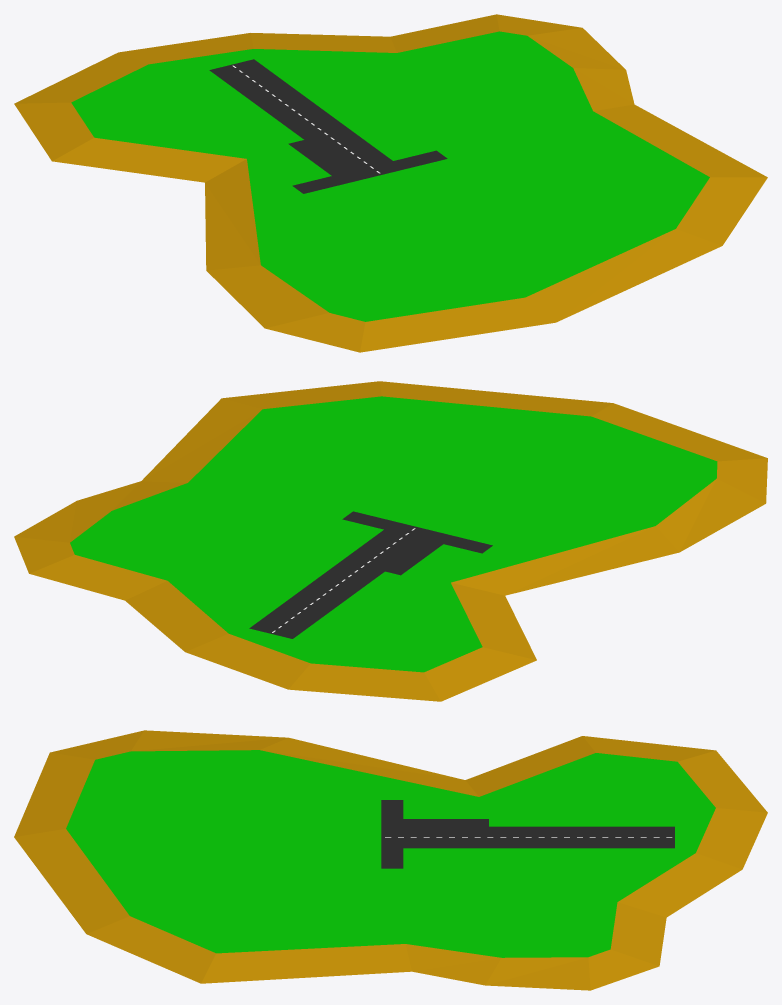
File: island.obj
3 renders of one model, top to bottom at view 1: azimuth 30°, elevation 25°; view 2: azimuth 150°, elevation 25°; view 3: azimuth 270°, elevation 25°, orthographic. The views are drawn at different scales.
Visible parts, largest first — view 1: Cube.001; view 2: Cube.001; view 3: Cube.001.
Part boxes in pixels (x1,y1,x2,y2): Cube.001: (14, 14, 767, 352); Cube.001: (14, 381, 767, 701); Cube.001: (14, 730, 767, 990).
Size of the model in its own units: 13.68 by 0.159 by 16.75.
